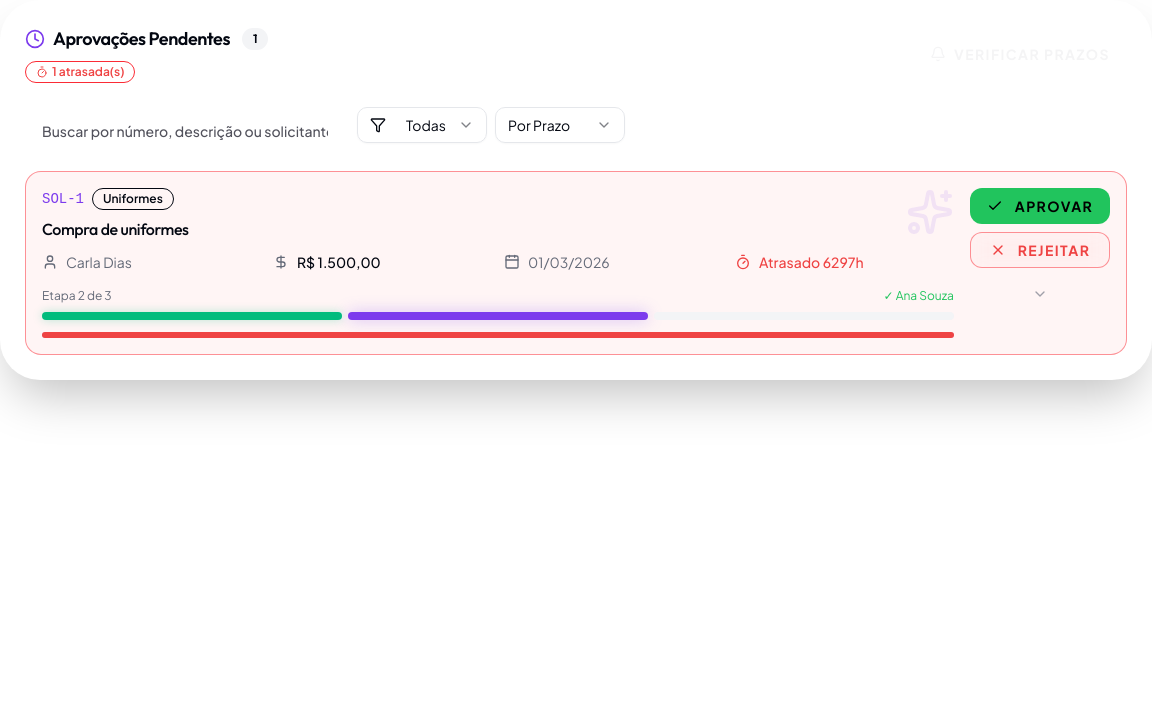
Test: PendingApprovalsList - 'Ver Histórico' abre o historico do workflow (QA 253) › mostra os eventos do workflow da aprovacao, nao os de outro workflow
Press the mouse on the button named "Mais ações da aprovação": (1040, 294) [970,276,1110,312]
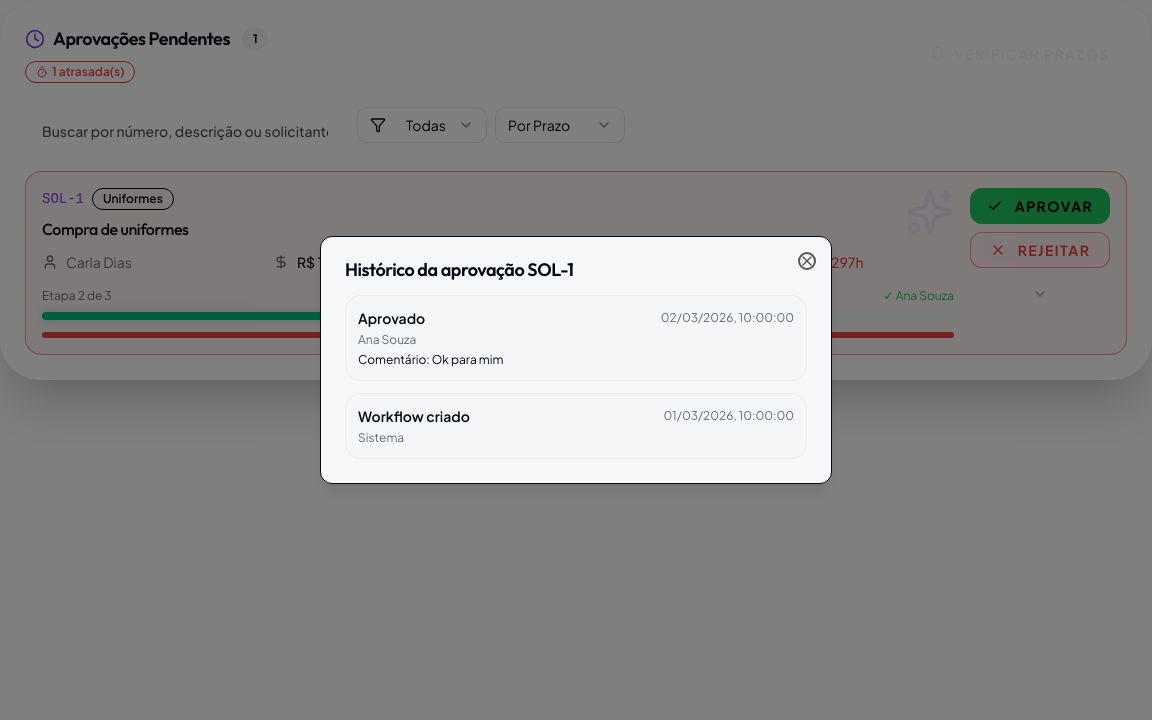
Check: the dialog shows "Histórico da aprovação SOL-1", box [320,236,832,484]
Check: the dialog shows "Workflow criado", box [358,407,470,425]
Check: the dialog shows "Aprovado", box [358,309,425,327]
